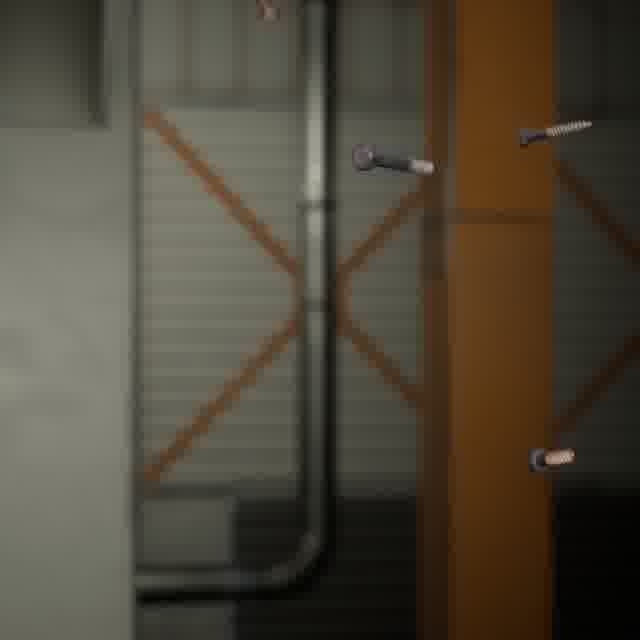bolt: (347, 138, 438, 179), (511, 116, 597, 152), (520, 443, 580, 477), (248, 0, 285, 30)
